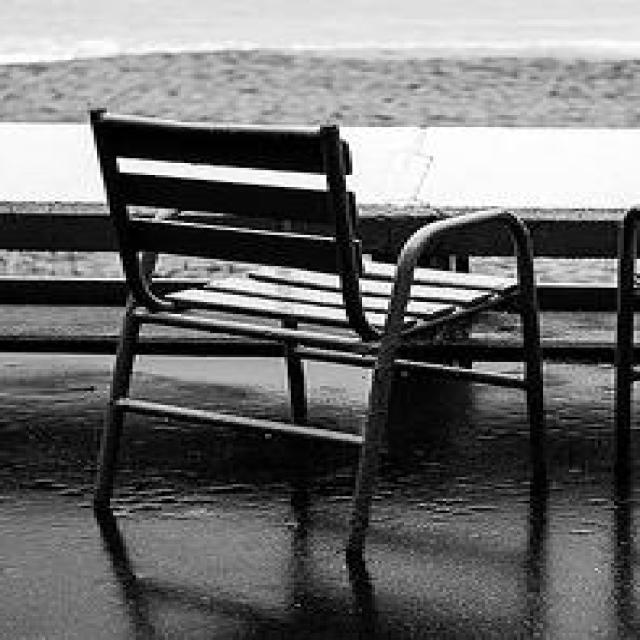chair: (84, 103, 550, 590)
